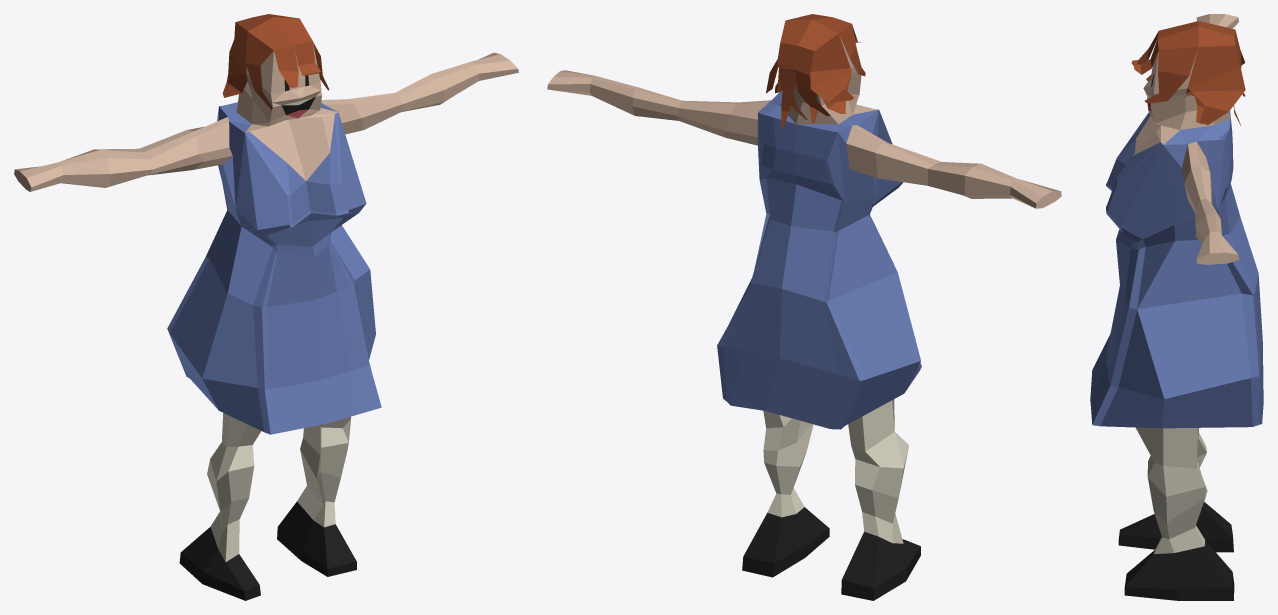
Rendered from Maman1.fbx.
3 views of the same model, side by side, from view 1: azimuth 30°, elevation 25°; view 2: azimuth 150°, elevation 25°; view 3: azimuth 270°, elevation 25° (orthographic).
Visible parts, largest first — view 1: Cube.001; view 2: Cube.001; view 3: Cube.001.
Boxes of the visible parts, x1,y1,x2,y2 form: Cube.001: [14, 14, 518, 600]; Cube.001: [547, 14, 1061, 600]; Cube.001: [1090, 14, 1263, 600].
Bounding box in the file's own units: 540 × 571 × 163.
